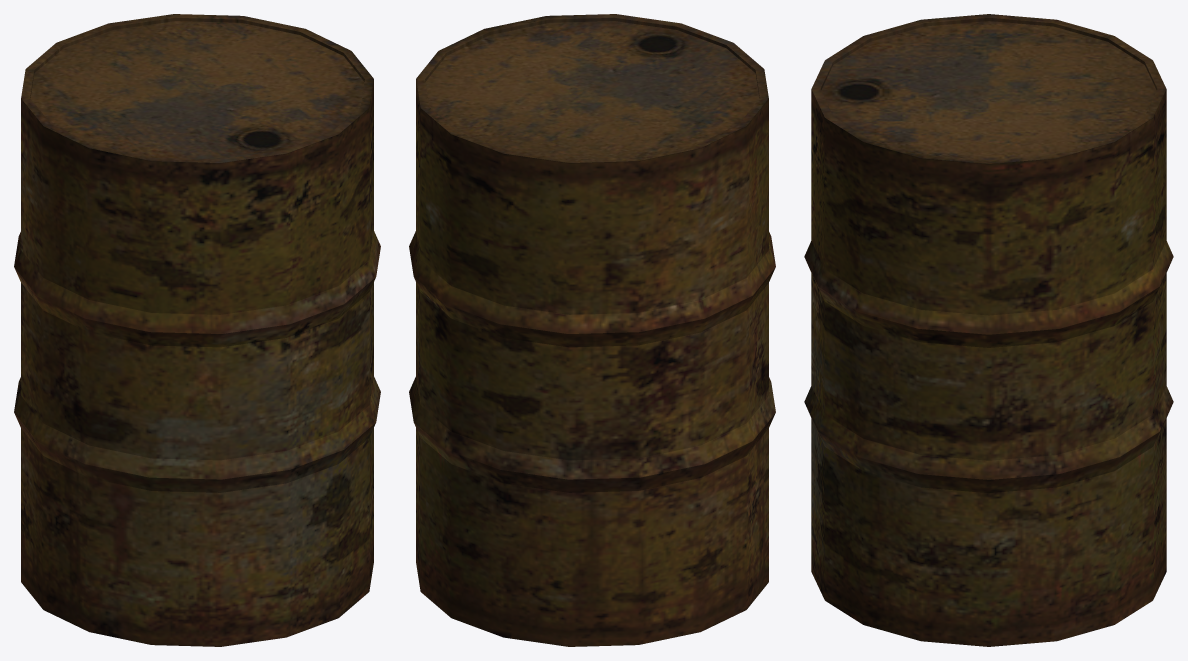
The model's file is metal_barrel_mp_1.dae.
3 renders of one model, left to right at view 1: azimuth 30°, elevation 25°; view 2: azimuth 150°, elevation 25°; view 3: azimuth 270°, elevation 25°, orthographic.
Visible parts, largest first — view 1: metal_barrel_mp_1; view 2: metal_barrel_mp_1; view 3: metal_barrel_mp_1.
Boxes of the visible parts, x1=… form: metal_barrel_mp_1: x1=14, y1=14, x2=380, y2=646; metal_barrel_mp_1: x1=409, y1=14, x2=775, y2=646; metal_barrel_mp_1: x1=804, y1=14, x2=1173, y2=646.
Bounding box in the file's own units: 0.7488 × 0.7488 × 1.08.
1 material, 1 textured.
